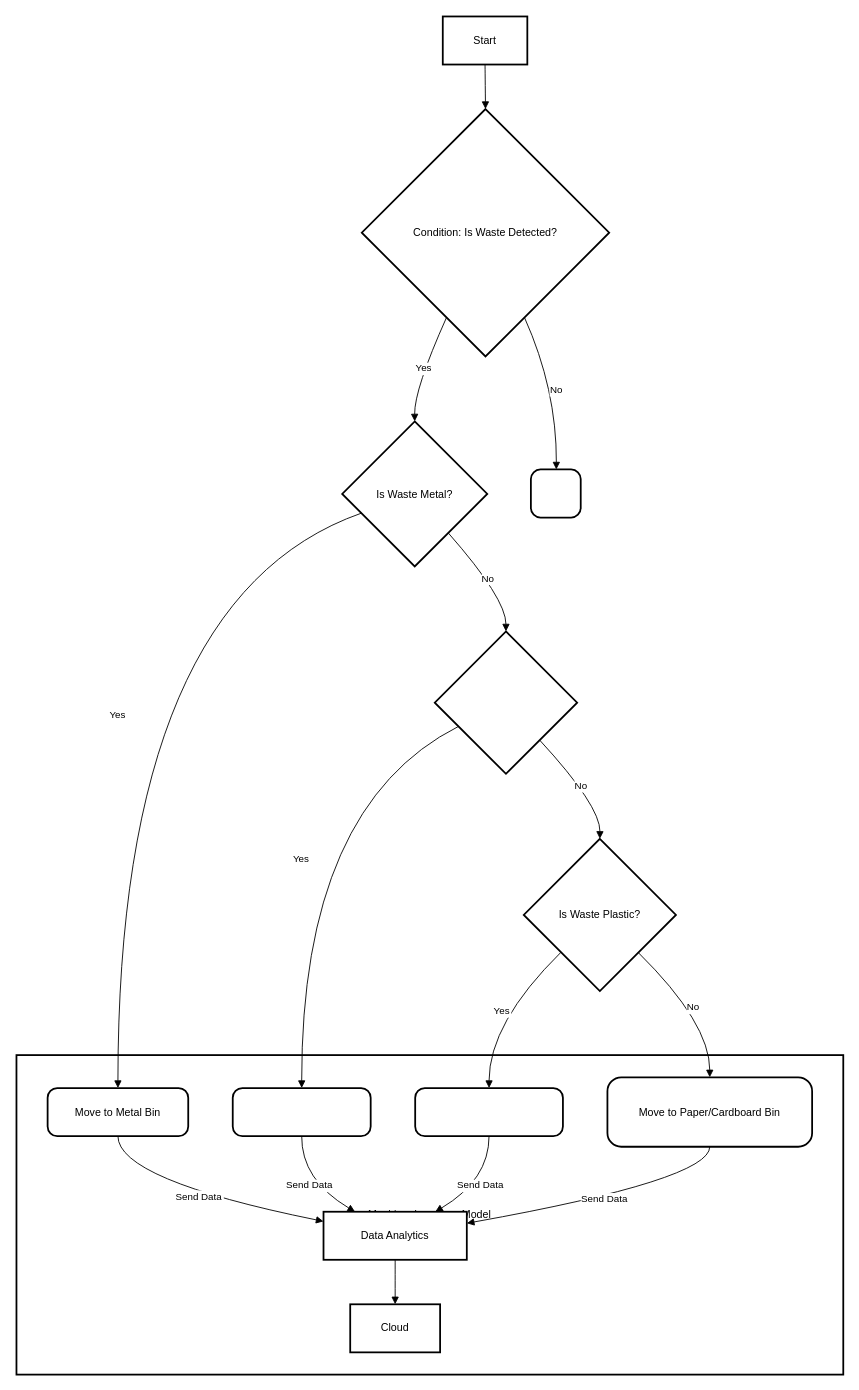
The diagram is 859 pixels wide and 1390 high, and some of its shapes have lost their labels. The shapes that lost their labels are listed below. From the top down, each one's box as (x1, y1, x2, y2) in pixels, then its label:
(530, 468, 581, 518): End
(433, 630, 578, 774): Is Waste Glass?
(231, 1087, 371, 1137): Move to Glass Bin
(414, 1087, 563, 1137): Move to Plastic Bin
